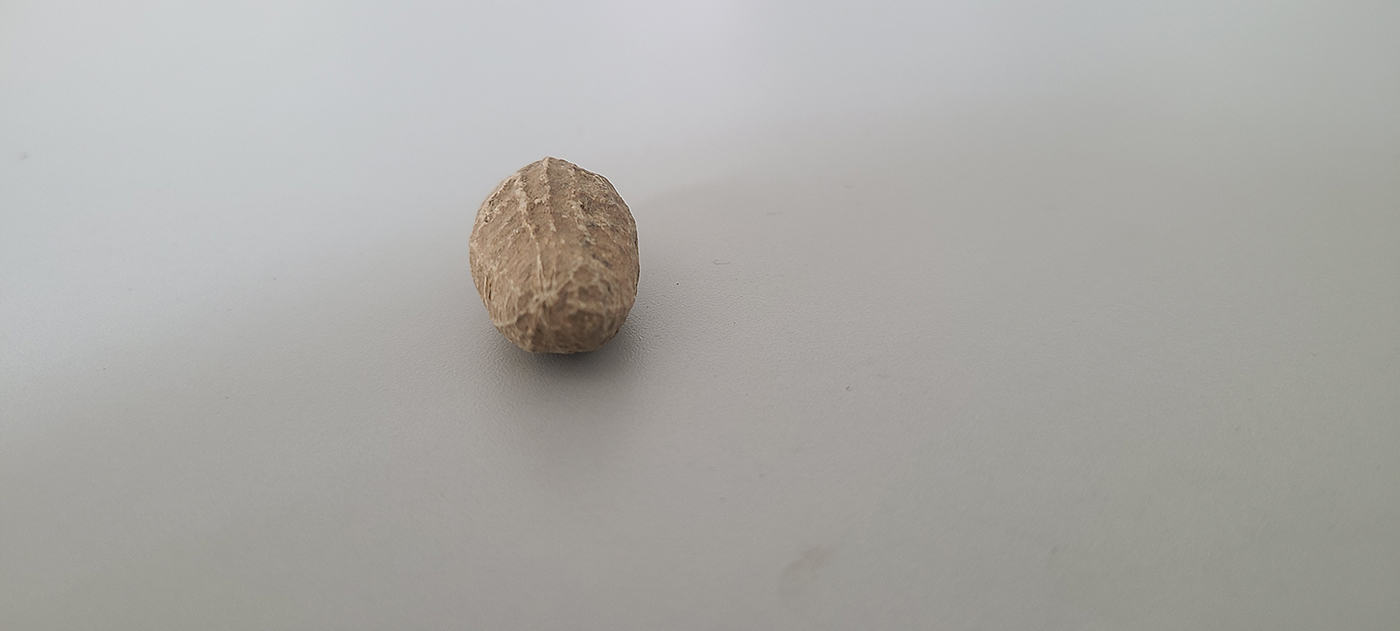h: (466, 154, 645, 362)
